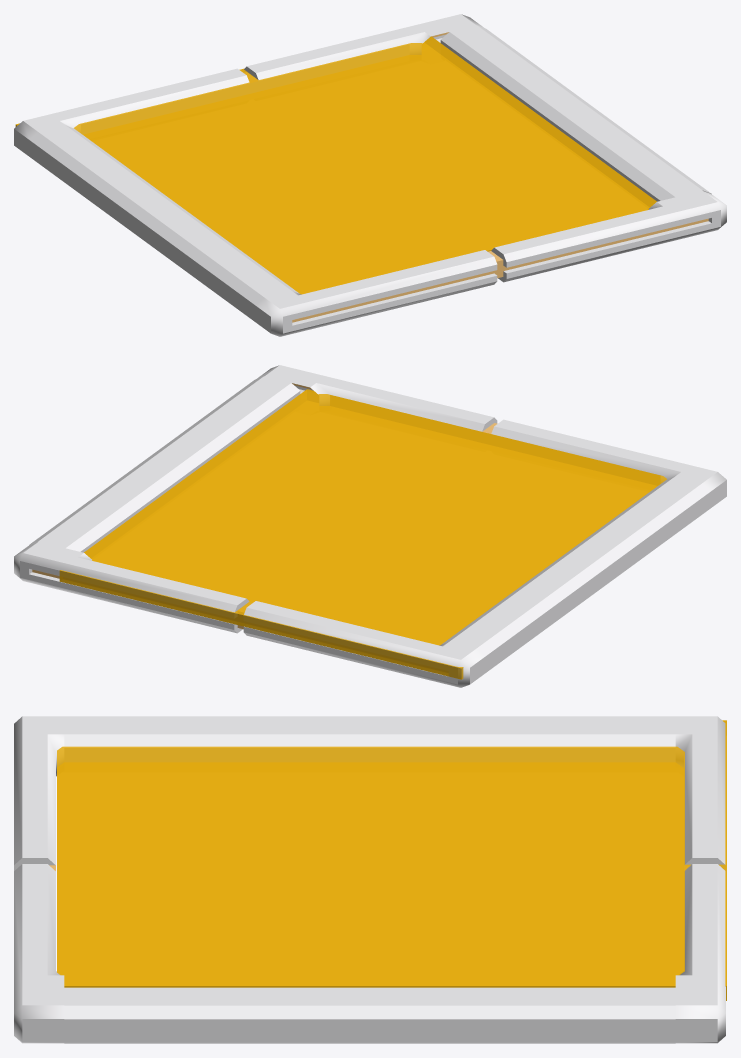
The picture shows the model from 3 angles, top to bottom: view 1: azimuth 30°, elevation 25°; view 2: azimuth 150°, elevation 25°; view 3: azimuth 270°, elevation 25°; orthographic projection. The views are drawn at different scales.
Visible parts, largest first — view 1: group_1, group_6, group_7.001, group_3, group_7.002, group_6.001; view 2: group_1, group_3, group_7.001, group_7.002, group_6, group_3.001; view 3: group_1, group_7.002, group_7.001, group_6, group_3.
Boxes of the visible parts, x1,y1,x2,y2 form: group_1: (15, 36, 656, 294); group_6: (255, 190, 726, 336); group_7.001: (29, 125, 299, 321); group_3: (14, 14, 483, 156); group_7.002: (440, 25, 711, 201); group_6.001: (292, 218, 708, 322); group_1: (59, 389, 666, 679); group_3: (14, 541, 485, 687); group_7.001: (441, 476, 711, 672); group_7.002: (29, 376, 300, 552); group_6: (257, 365, 726, 507); group_3.001: (32, 569, 447, 671); group_1: (57, 720, 726, 1000); group_7.002: (64, 987, 675, 1043); group_7.001: (64, 716, 675, 761); group_6: (14, 716, 64, 1043); group_3: (675, 716, 725, 1043).
Size of the model in its own units: 85.19 by 5 by 85.12.
